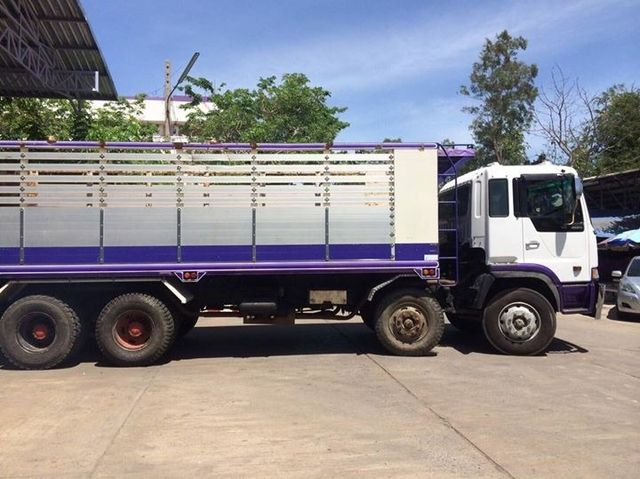truck: (1, 140, 610, 361)
